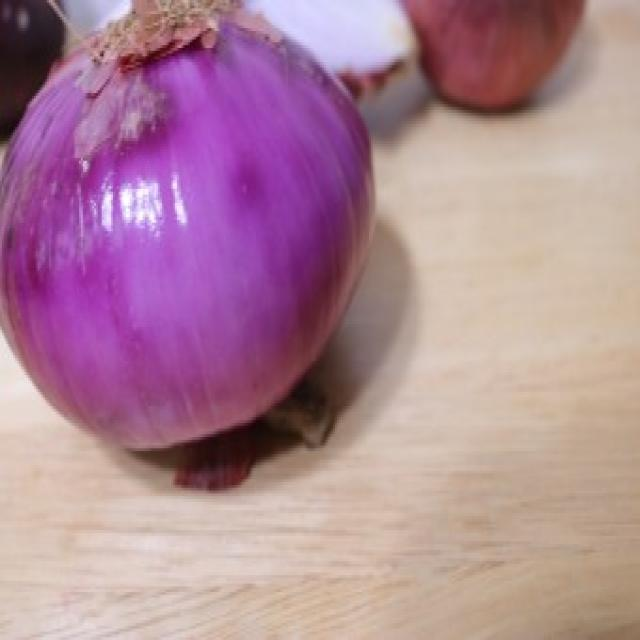Onion: (0, 0, 377, 452), (405, 0, 584, 108), (175, 434, 258, 486)
